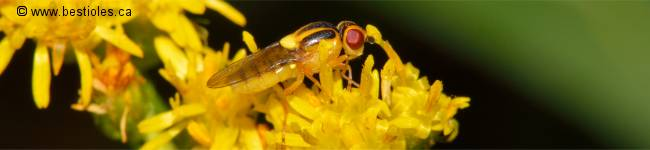Chloropidae: (205, 20, 366, 118)
